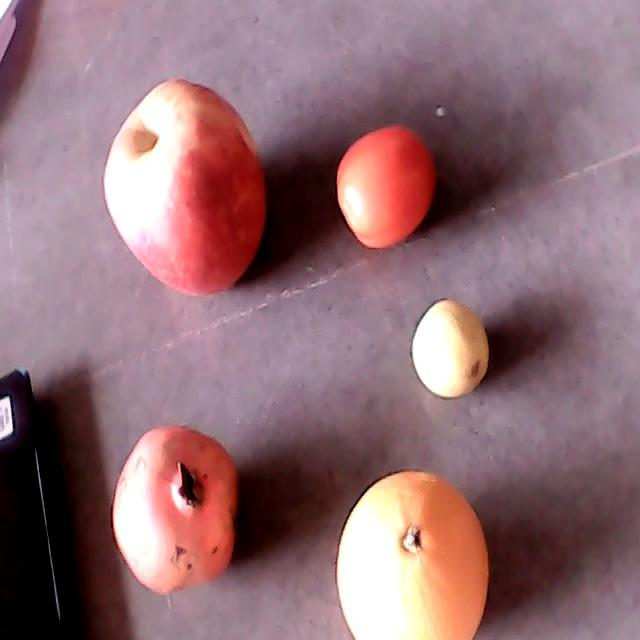apple: (102, 79, 266, 295)
lemon: (412, 298, 490, 399)
orange: (336, 470, 490, 639)
pomegranate: (111, 424, 239, 595)
tomato: (336, 126, 436, 249)
